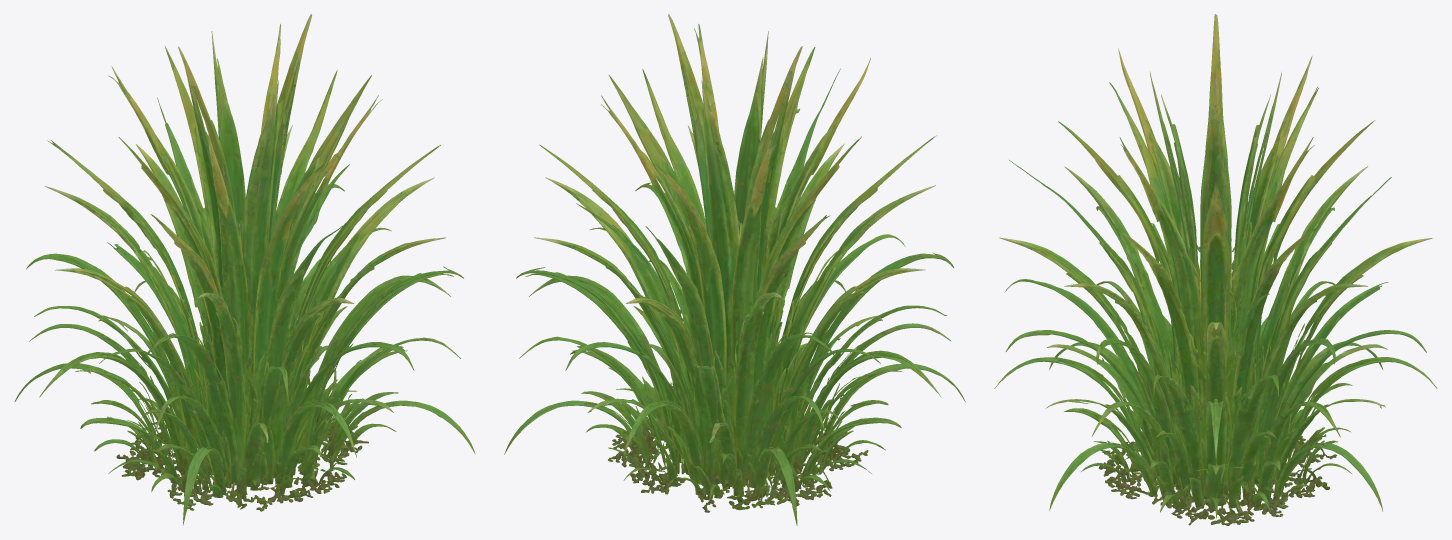
Rendered from Meshy_AI_grass_cluster_a_0823021137_image-to-3d-texture.glb.
3 renders of one model, left to right at view 1: azimuth 30°, elevation 25°; view 2: azimuth 150°, elevation 25°; view 3: azimuth 270°, elevation 25°, orthographic.
Size of the model in its own units: 1.87 by 1.87 by 1.76.
Materials: 1 (1 with a texture image).
